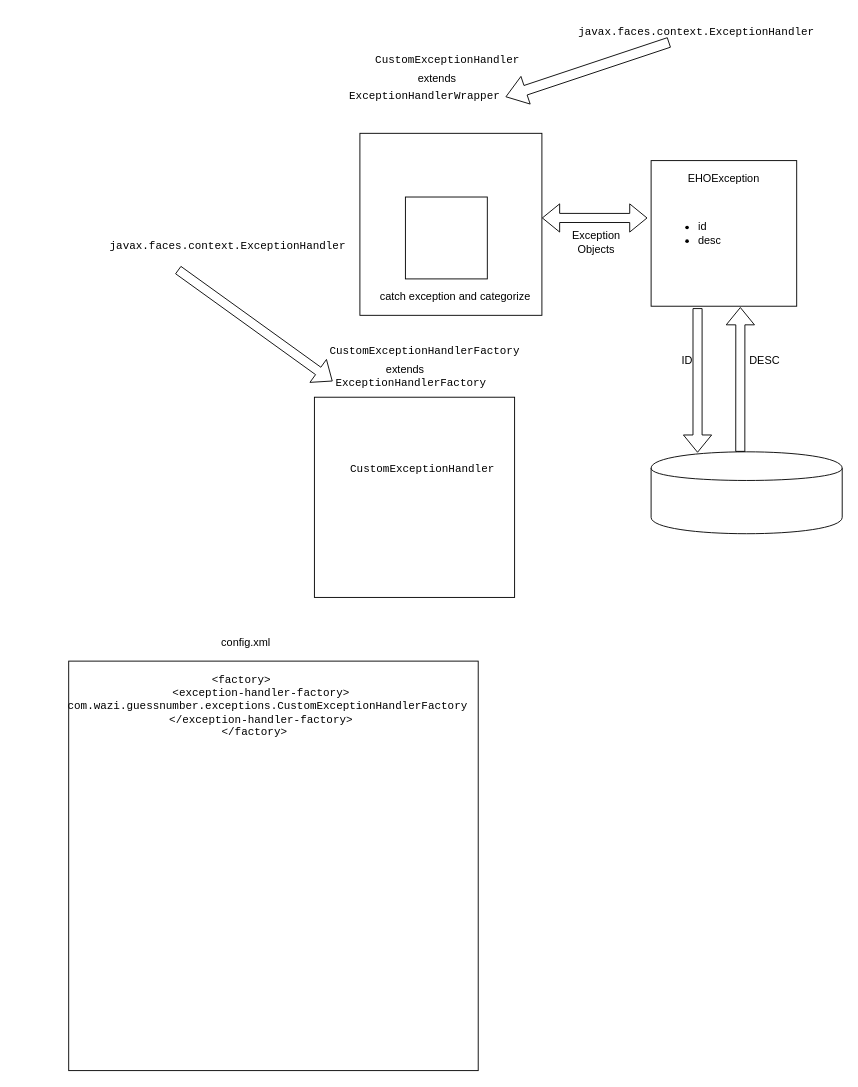
This 858x1087 diagram has some shape labels left out. The shapes that lost their labels are listed below. From the top down, each one's box as (x1, y1, x2, y2) in pixels, then its label:
(404, 196, 487, 279): handle
(650, 451, 842, 534): Database
